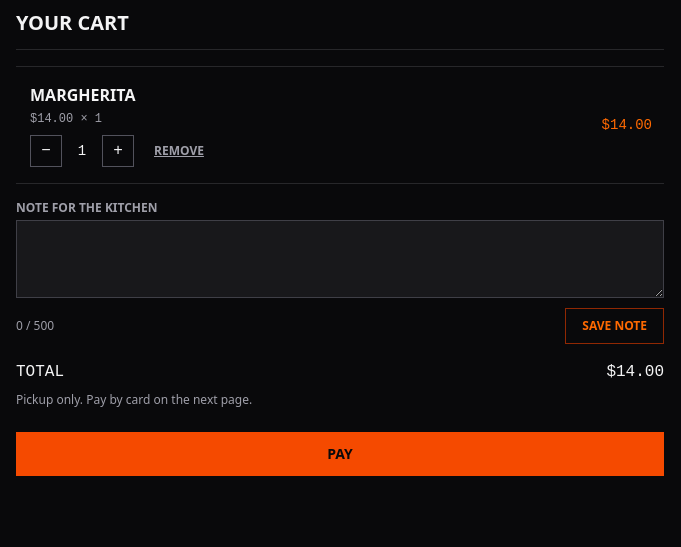
CartView › highlights the unavailable pizza, never leaves for Stripe, and lets the visitor remove it
Click the button with test id "pay": (340, 454) [16,432,664,476]
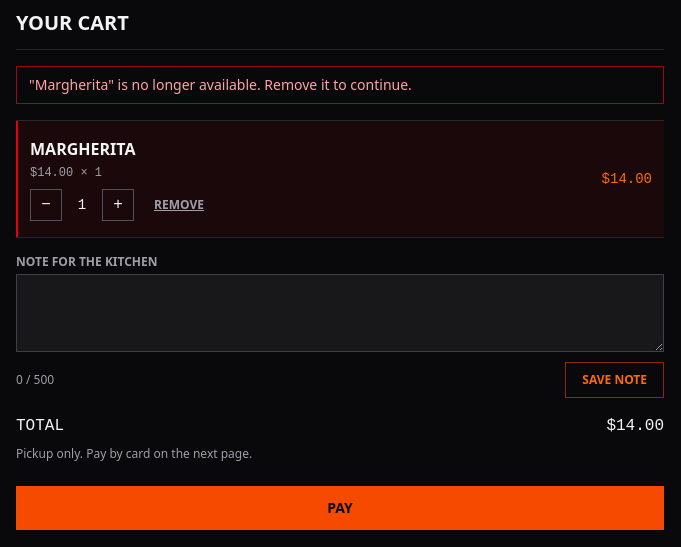
Expected: the button with test id "remove" is shown, [146,189,212,221]
Now the message with test id "cart-error" shows "\"Margherita\" is no longer available", box [29,75,412,94]
